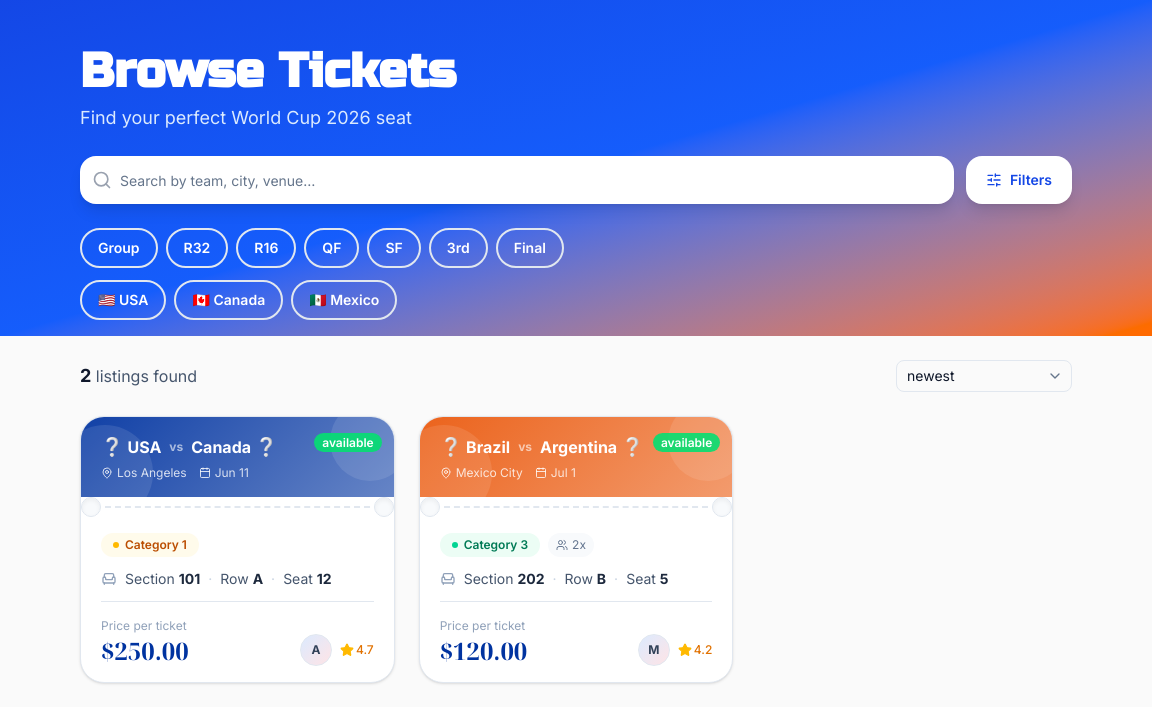
it: BrowsePage › combines text search and stage filter
// Filter by QF stage — should show Mexico listing
Click the button with test id "stage-chip-QF" at {"x": 332, "y": 248}, box x1=304 y1=228 x2=360 y2=268
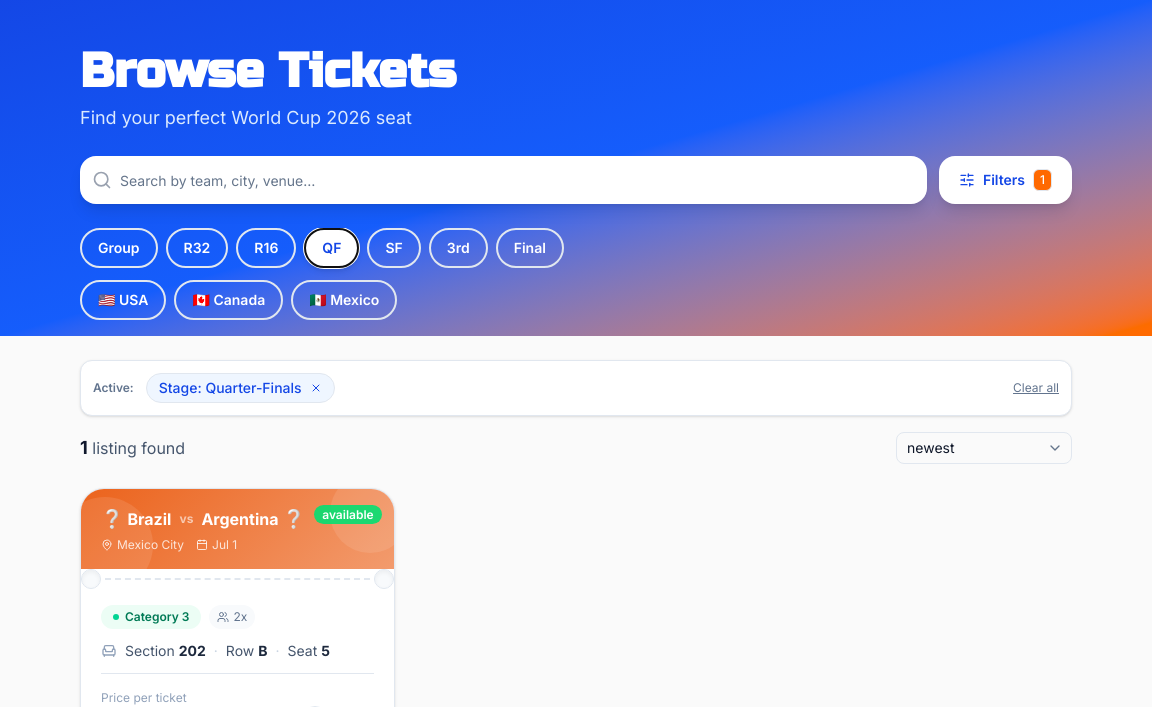
// Text search for Brazil within QF
Type "Brazil" into the field with test id "search-input" at {"x": 503, "y": 180}, box x1=80 y1=156 x2=927 y2=204
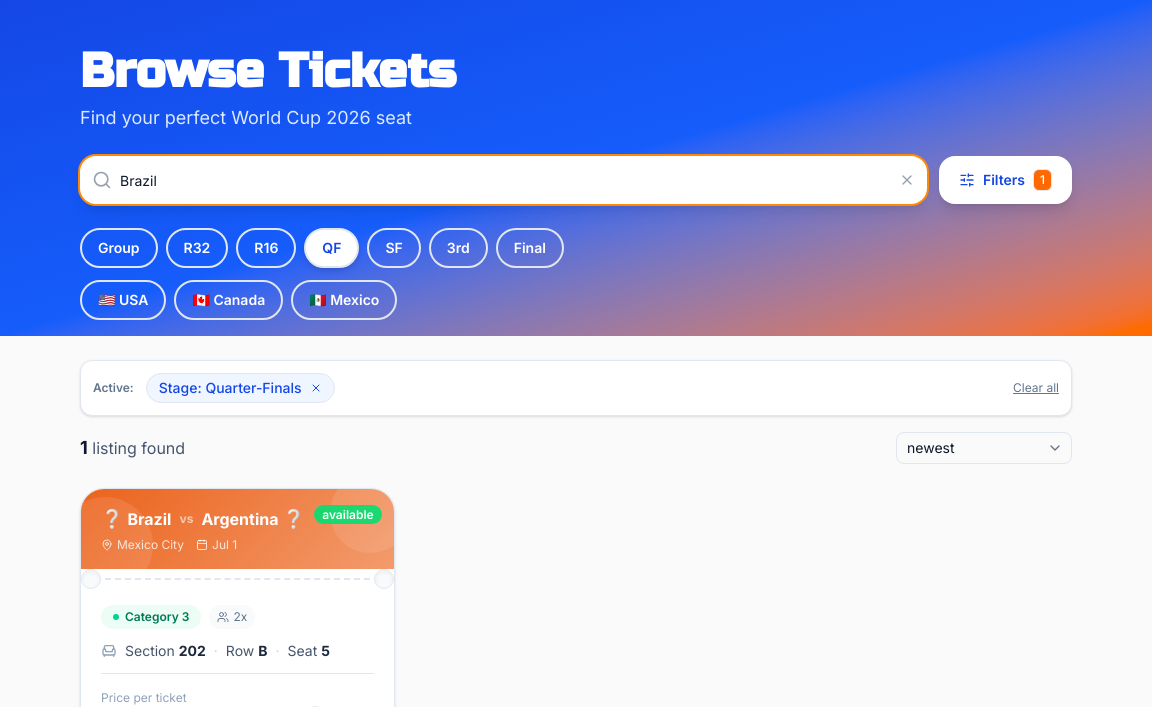
Expected: the element with test id "results-count" reads "1 listing found", x1=80 y1=434 x2=185 y2=462
// Now search for something not in QF
Replace the text in the field with test id "search-input" with "USA" at {"x": 503, "y": 180}, box x1=80 y1=156 x2=927 y2=204
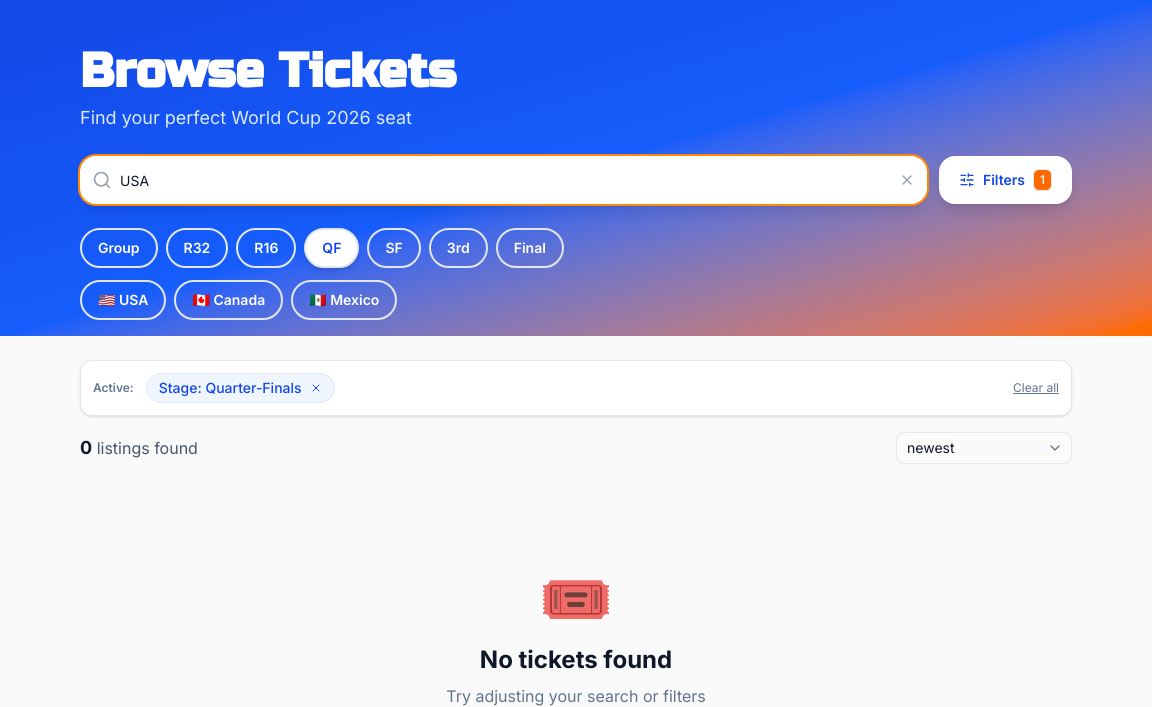
Expected: the element with test id "results-count" reads "0 listings found", x1=80 y1=434 x2=198 y2=462
